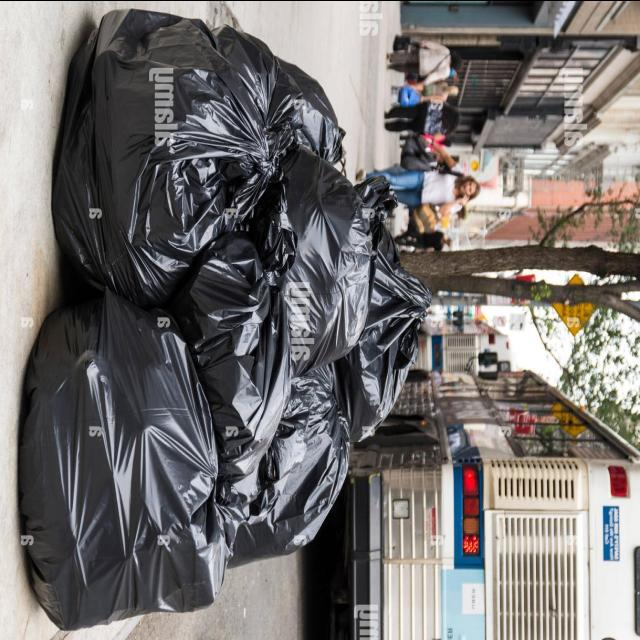garbage: (26, 0, 446, 640)
